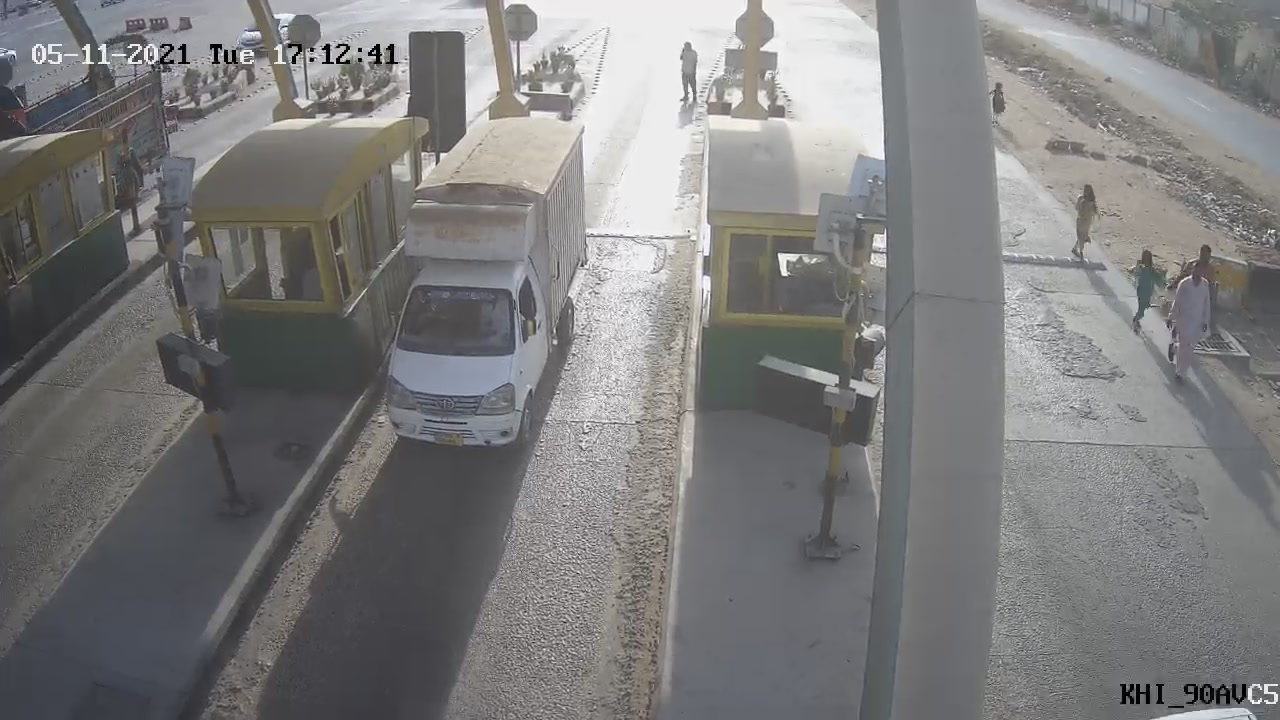F2: (364, 95, 600, 468)
